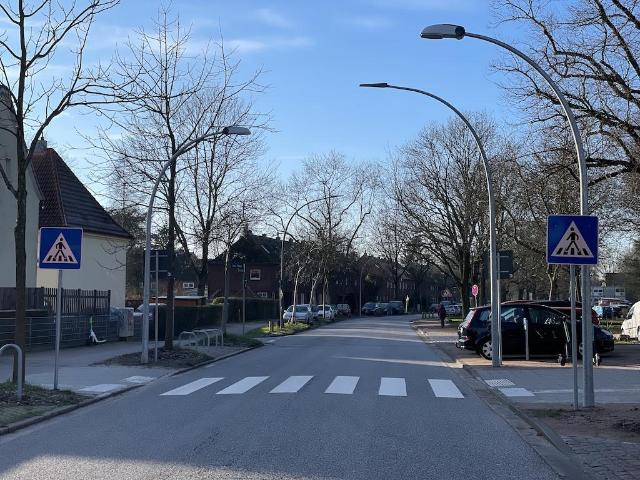crosswalk-sign: (547, 215, 599, 266), (39, 228, 83, 271)
